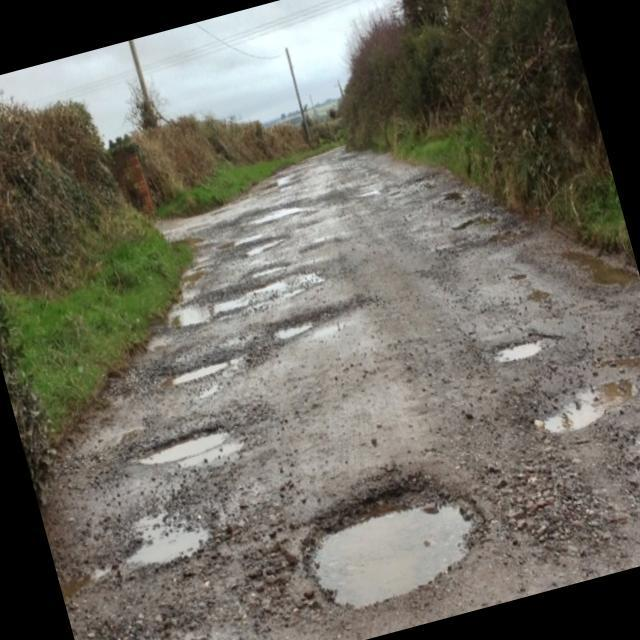Pothole: (284, 458, 498, 628), (115, 488, 222, 593), (534, 354, 640, 441), (123, 410, 240, 482), (73, 603, 199, 640), (165, 346, 240, 399), (166, 286, 248, 332), (488, 324, 548, 372), (262, 306, 320, 350), (240, 226, 285, 264)
